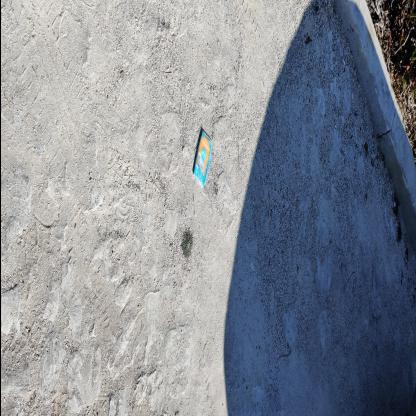plastik: (193, 131, 211, 188)
